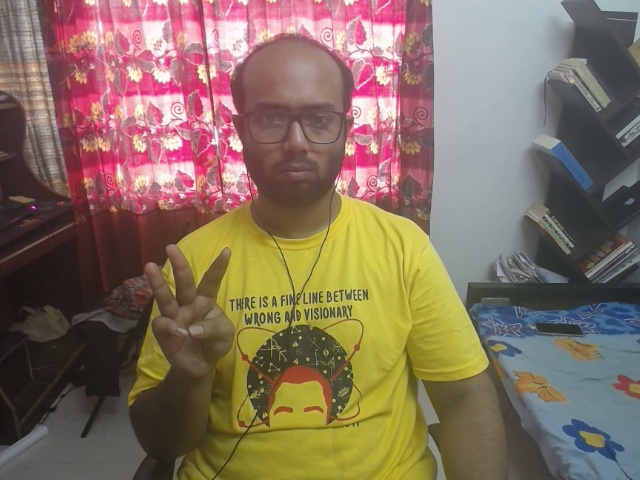four: (111, 237, 276, 381)
